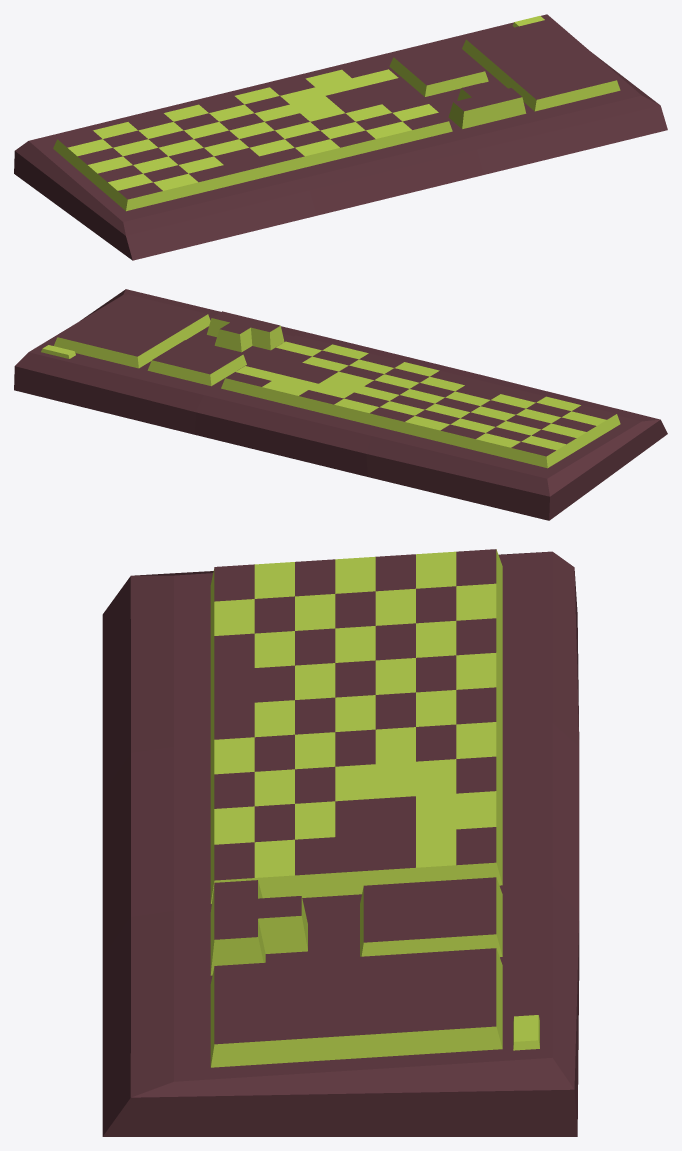
File: pc-keyboard-gaming.fbx
3 renders of one model, top to bottom at view 1: azimuth 30°, elevation 25°; view 2: azimuth 150°, elevation 25°; view 3: azimuth 270°, elevation 25°, orthographic. The views are drawn at different scales.
Visible parts, largest first — view 1: pc-keyboard-gaming; view 2: pc-keyboard-gaming; view 3: pc-keyboard-gaming.
Part boxes in pixels (x1,y1,x2,y2): pc-keyboard-gaming: (14,14,667,260); pc-keyboard-gaming: (14,289,667,520); pc-keyboard-gaming: (102,549,579,1136).
Size of the model in its own units: 0.5105 by 0.04 by 0.1969.
